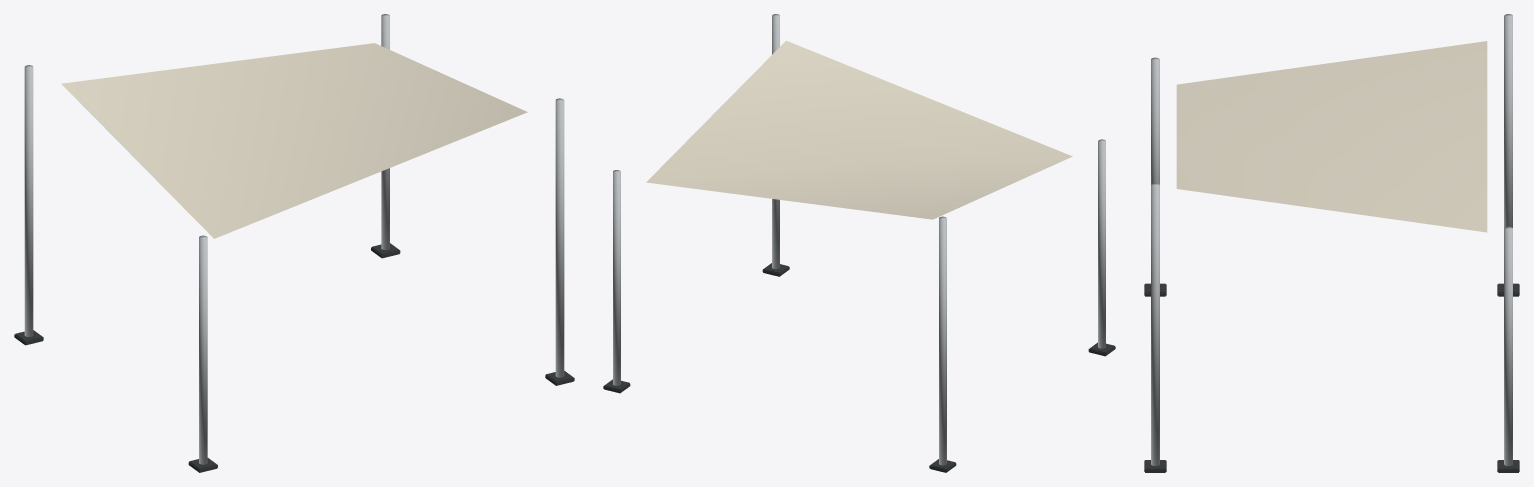
The model's file is shade_sail.glb.
3 views of the same model, side by side, from view 1: azimuth 30°, elevation 25°; view 2: azimuth 150°, elevation 25°; view 3: azimuth 270°, elevation 25° (orthographic). The views are drawn at different scales.
Parts seen in each view (by area): view 1: shade_sail_Warm_cream_enamel, shade_sail_Brushed_stainless, shade_sail_Anodised_graphite; view 2: shade_sail_Warm_cream_enamel, shade_sail_Brushed_stainless, shade_sail_Anodised_graphite; view 3: shade_sail_Warm_cream_enamel, shade_sail_Brushed_stainless, shade_sail_Anodised_graphite.
Part boxes in pixels (box(x1,y1,x2,y2)): shade_sail_Warm_cream_enamel: box(61, 43, 527, 238); shade_sail_Brushed_stainless: box(24, 14, 564, 464); shade_sail_Anodised_graphite: box(14, 243, 574, 472); shade_sail_Warm_cream_enamel: box(646, 40, 1072, 219); shade_sail_Brushed_stainless: box(613, 14, 1105, 465); shade_sail_Anodised_graphite: box(603, 263, 1115, 472); shade_sail_Warm_cream_enamel: box(1176, 41, 1487, 232); shade_sail_Brushed_stainless: box(1151, 14, 1512, 465); shade_sail_Anodised_graphite: box(1144, 283, 1519, 472).
Size of the model in its own units: 5.48 by 3.9 by 4.68.
